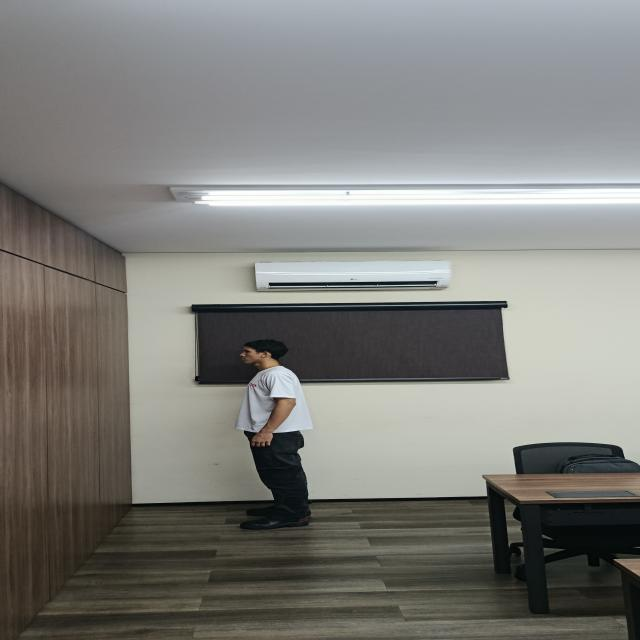sem_oculos: (241, 349, 268, 355)
